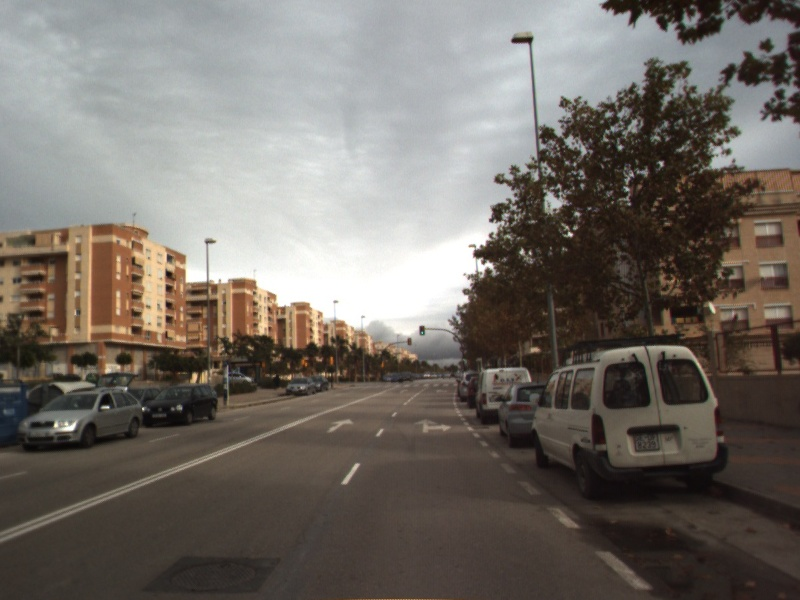STRAIGHT: (324, 416, 356, 435)
STRAIGHT_RIGHT: (413, 416, 454, 435)
